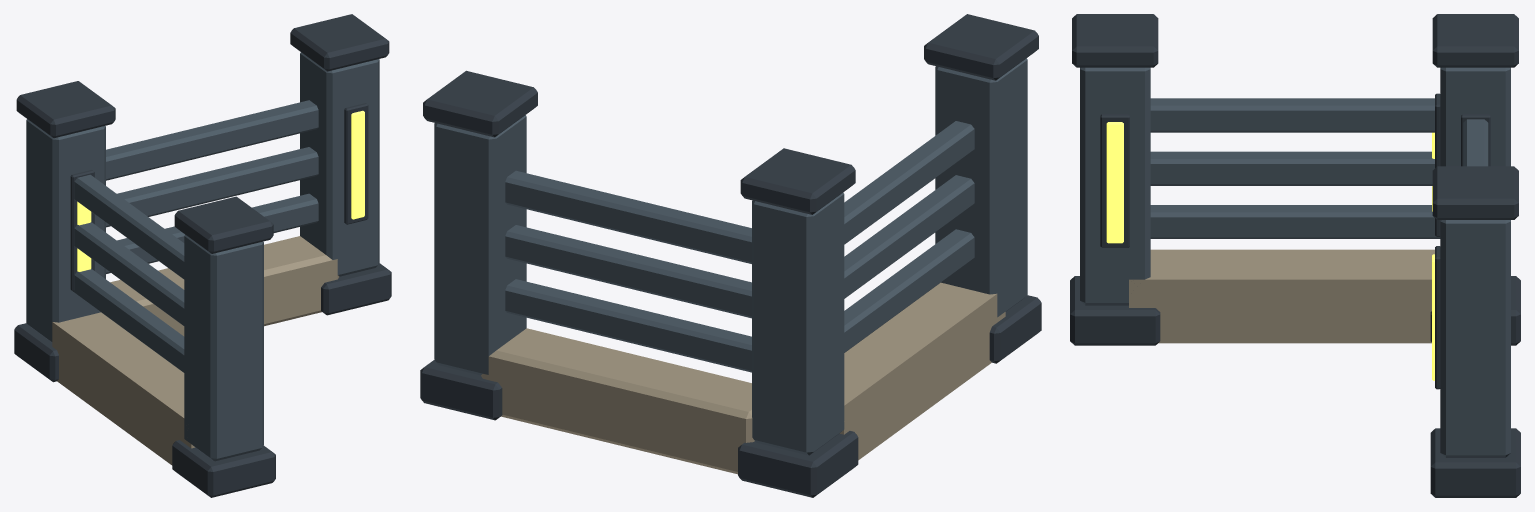
File: Court_FenceCorner.fbx
3 renders of one model, left to right at view 1: azimuth 30°, elevation 25°; view 2: azimuth 150°, elevation 25°; view 3: azimuth 270°, elevation 25°, orthographic. The views are drawn at different scales.
Parts seen in each view (by area): view 1: Frame, FrameDark, ConcreteDark, Lamp; view 2: Frame, ConcreteDark, FrameDark; view 3: Frame, ConcreteDark, FrameDark, Lamp.
Part boxes in pixels (x1=…): Frame: x1=26, y1=52, x2=379, y2=461; FrameDark: x1=14, y1=14, x2=391, y2=497; ConcreteDark: x1=52, y1=236, x2=339, y2=465; Lamp: x1=77, y1=110, x2=364, y2=271; Frame: x1=434, y1=58, x2=1027, y2=455; ConcreteDark: x1=481, y1=282, x2=1005, y2=474; FrameDark: x1=420, y1=14, x2=1041, y2=497; Frame: x1=1080, y1=67, x2=1510, y2=457; ConcreteDark: x1=1129, y1=249, x2=1434, y2=343; FrameDark: x1=1070, y1=14, x2=1520, y2=497; Lamp: x1=1106, y1=122, x2=1434, y2=380.
Bounding box in the file's own units: 5.75 × 4.2 × 5.75.
